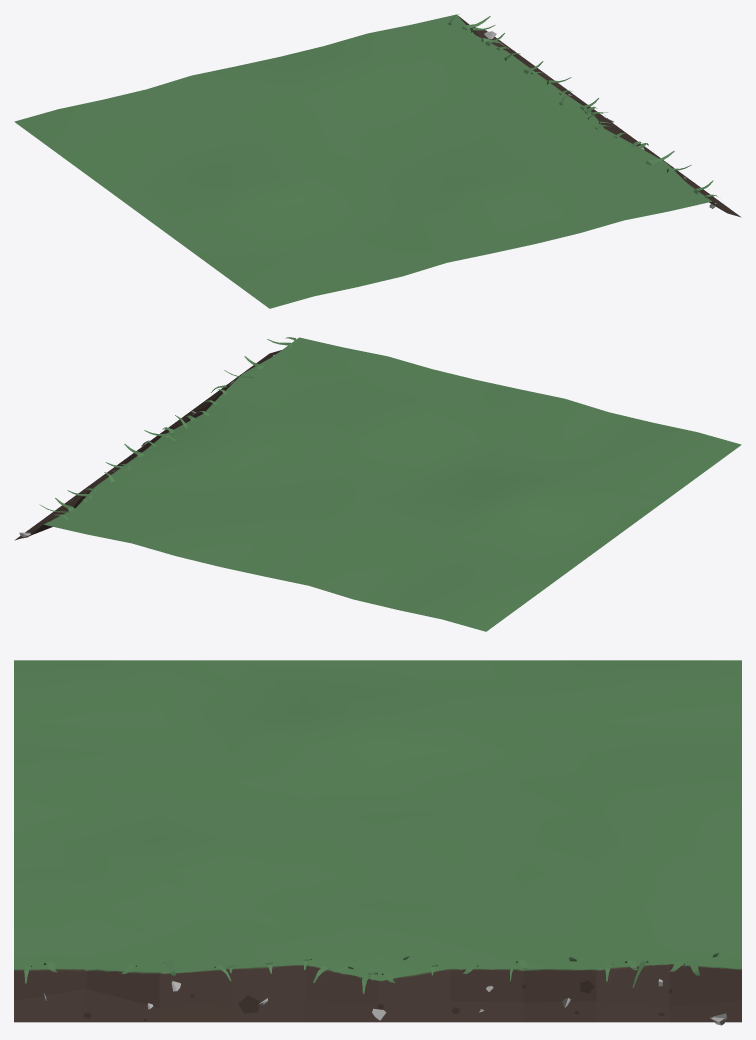
File: ground.fbx
3 renders of one model, top to bottom at view 1: azimuth 30°, elevation 25°; view 2: azimuth 150°, elevation 25°; view 3: azimuth 270°, elevation 25°, orthographic. The views are drawn at different scales.
Parts seen in each view (by area): view 1: Ground1; view 2: Ground1; view 3: Ground1.
Boxes of the visible parts, x1,y1,x2,y2 form: Ground1: (14,14,741,308); Ground1: (14,337,741,631); Ground1: (14,660,741,1025).
Bounding box in the file's own units: 64.34 × 4.34 × 60.
1 material, 1 textured.
